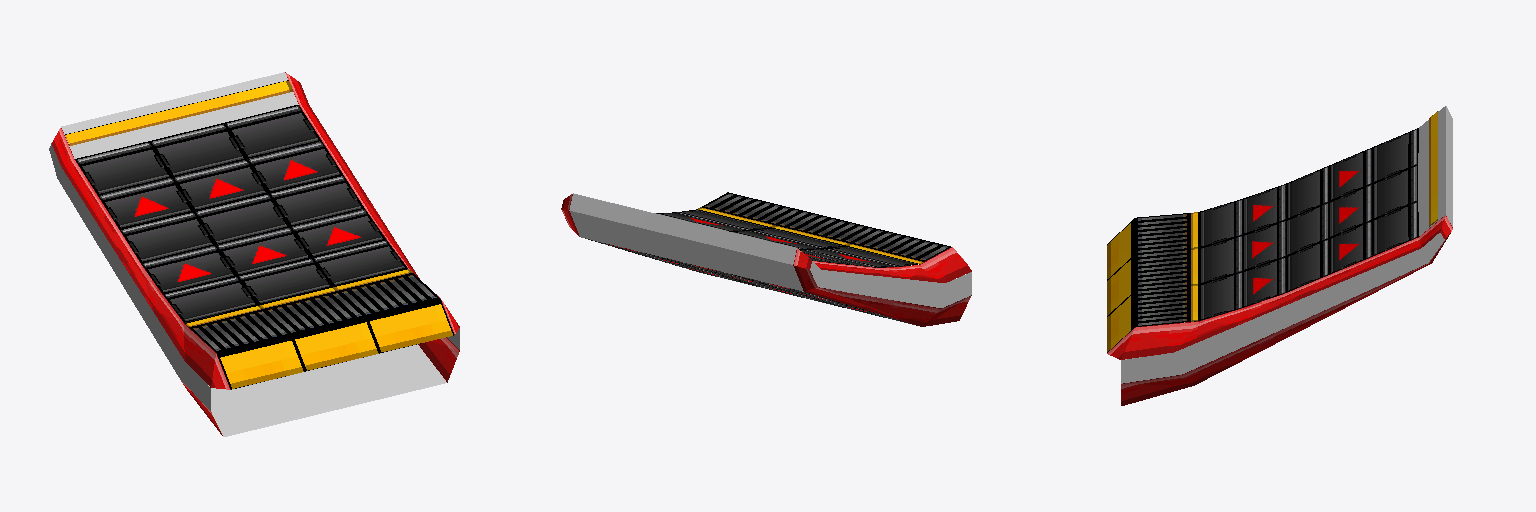
The picture shows the model from 3 angles: view 1: azimuth 30°, elevation 25°; view 2: azimuth 150°, elevation 25°; view 3: azimuth 270°, elevation 25°; orthographic projection.
Parts seen in each view (by area): view 1: Object_2, Object_1; view 2: Object_2, Object_1; view 3: Object_2, Object_1.
Boxes of the visible parts, <box> form: Object_2: <box>49,72,459,436</box>; Object_1: <box>75,105,406,322</box>; Object_2: <box>561,192,971,326</box>; Object_1: <box>585,210,920,326</box>; Object_2: <box>1107,106,1452,405</box>; Object_1: <box>1194,128,1418,321</box>.
Bounding box in the file's own units: 40.06 × 29.5 × 48.28.
5 materials, 3 textured.